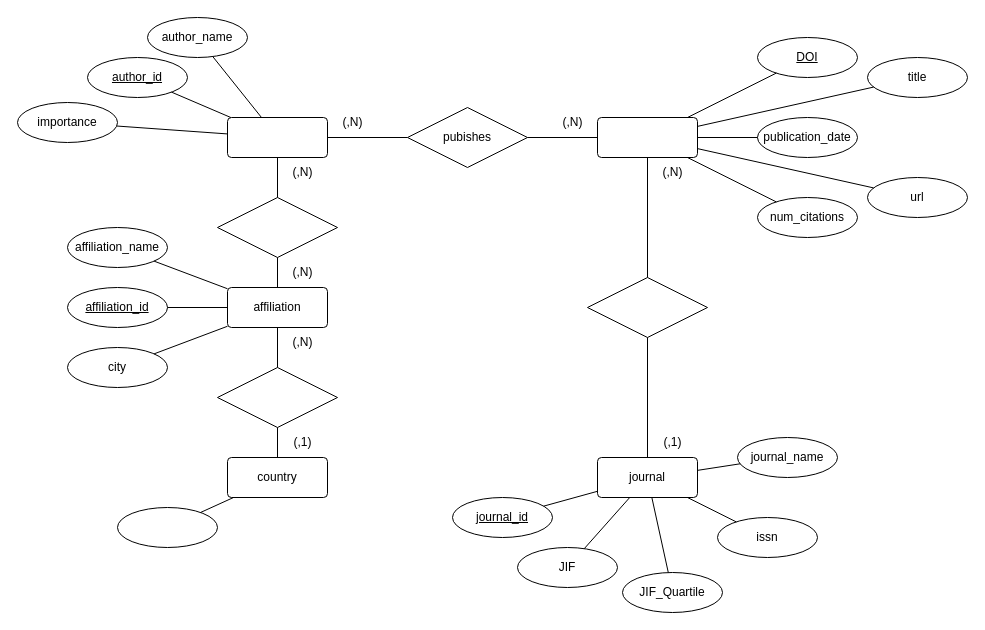
This 985x630 diagram has some shape labels left out. Here are the shapes that lost their labels. From the top down, the box of each, then its label:
(226, 116, 328, 158): author
(596, 116, 698, 158): article
(216, 196, 338, 258): affiliated with
(586, 276, 708, 338): published in
(216, 366, 338, 428): located in
(116, 506, 218, 548): name
